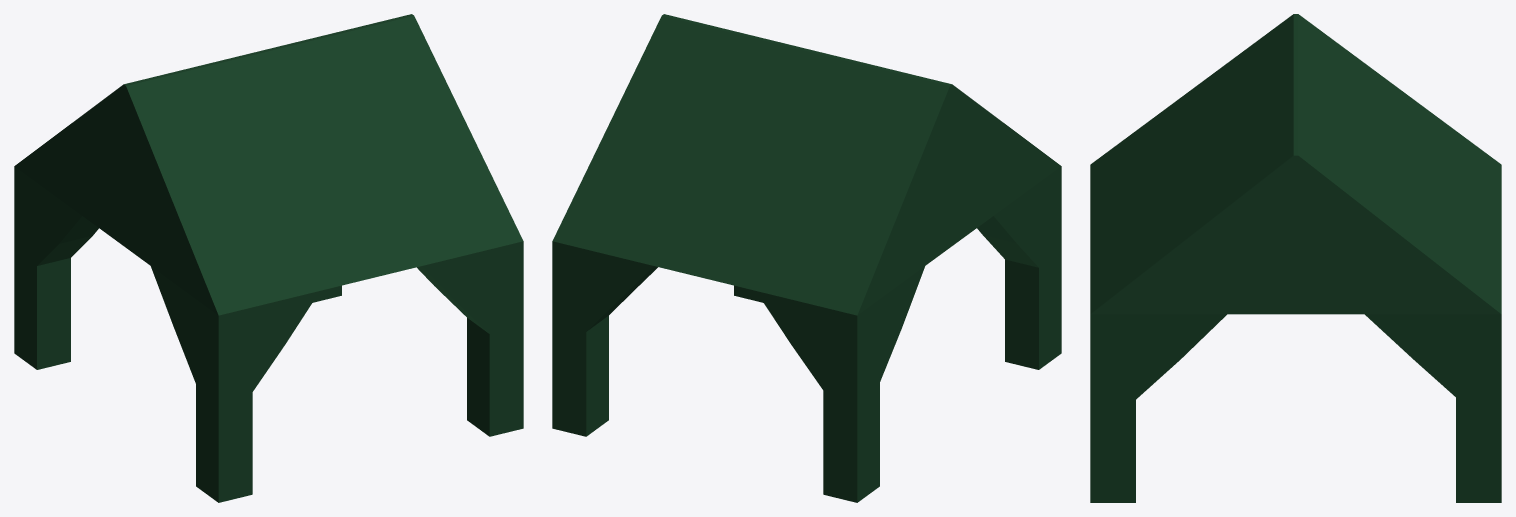
File: loggerCamp_V1.fbx
3 views of the same model, side by side, from view 1: azimuth 30°, elevation 25°; view 2: azimuth 150°, elevation 25°; view 3: azimuth 270°, elevation 25° (orthographic).
Parts seen in each view (by area): view 1: Cube; view 2: Cube; view 3: Cube.
Boxes of the visible parts, x1,y1,x2,y2 form: Cube: [14, 14, 523, 502]; Cube: [552, 14, 1061, 502]; Cube: [1090, 14, 1501, 502].
Bounding box in the file's own units: 212 × 226 × 245.
